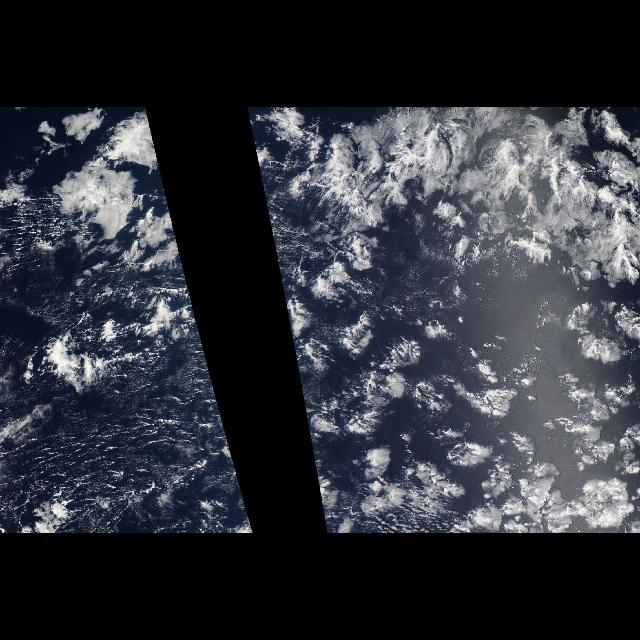Flower: (414, 312, 640, 532)
